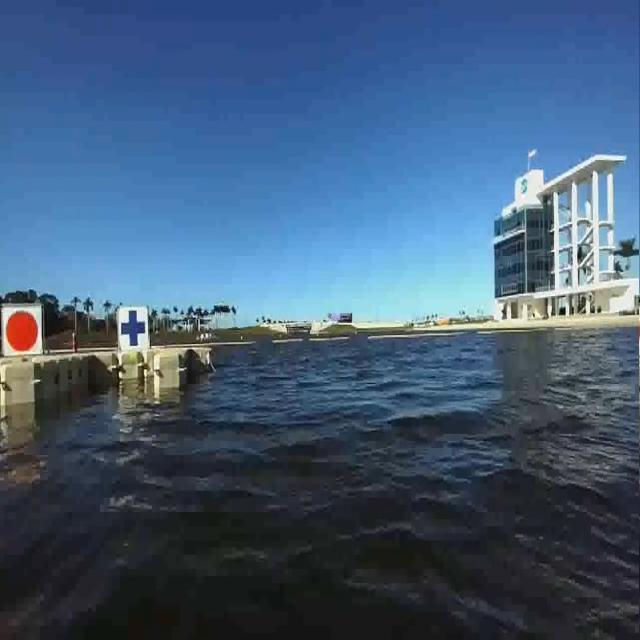blue-cross: (110, 300, 154, 357)
red-dot: (1, 301, 50, 360)
